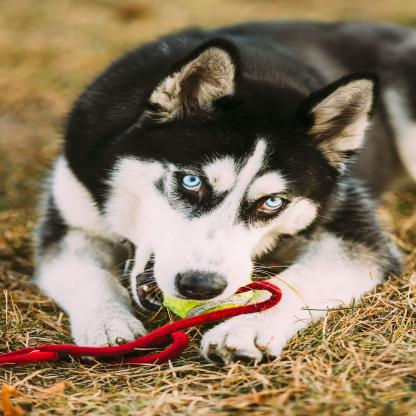dog: (30, 25, 416, 359)
